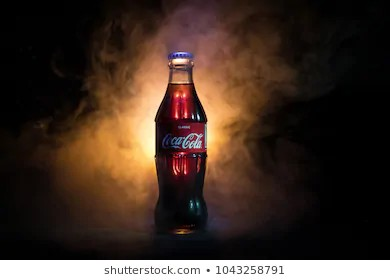coke-glass-bottle: (153, 45, 207, 233)
